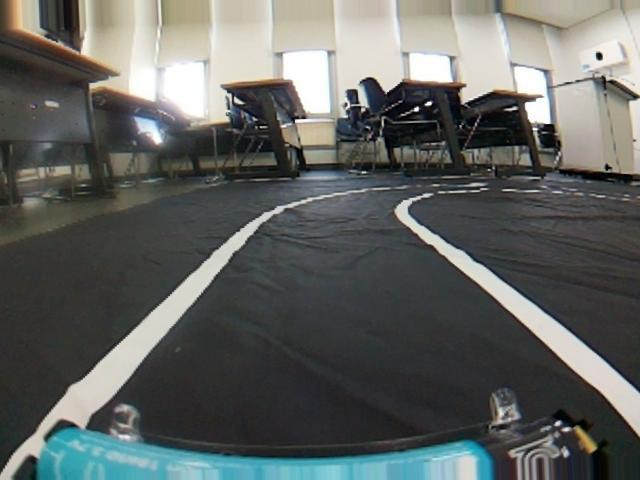straight: (7, 220, 634, 471)
